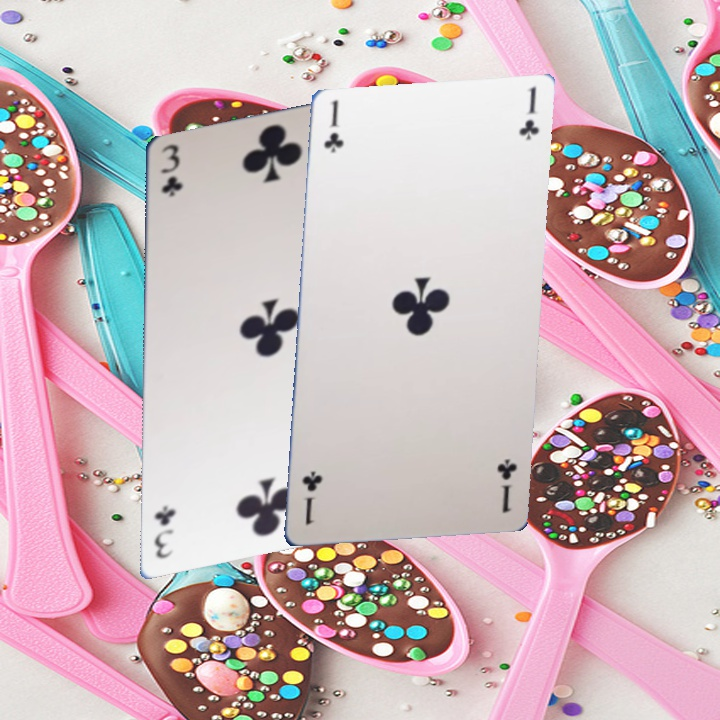1c: (492, 456, 521, 523), (318, 98, 347, 164), (515, 85, 544, 151), (295, 470, 324, 536)
3c: (157, 141, 184, 209), (152, 500, 179, 567)
